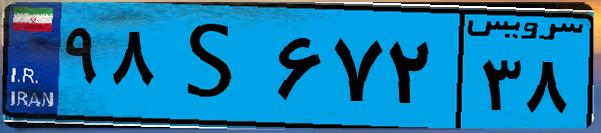2: (385, 28, 445, 110)
3: (475, 38, 525, 113)
6: (270, 28, 330, 110)
7: (330, 28, 385, 110)
8: (525, 38, 570, 115), (110, 28, 158, 98)
9: (57, 26, 110, 100)
S: (158, 12, 270, 120)
